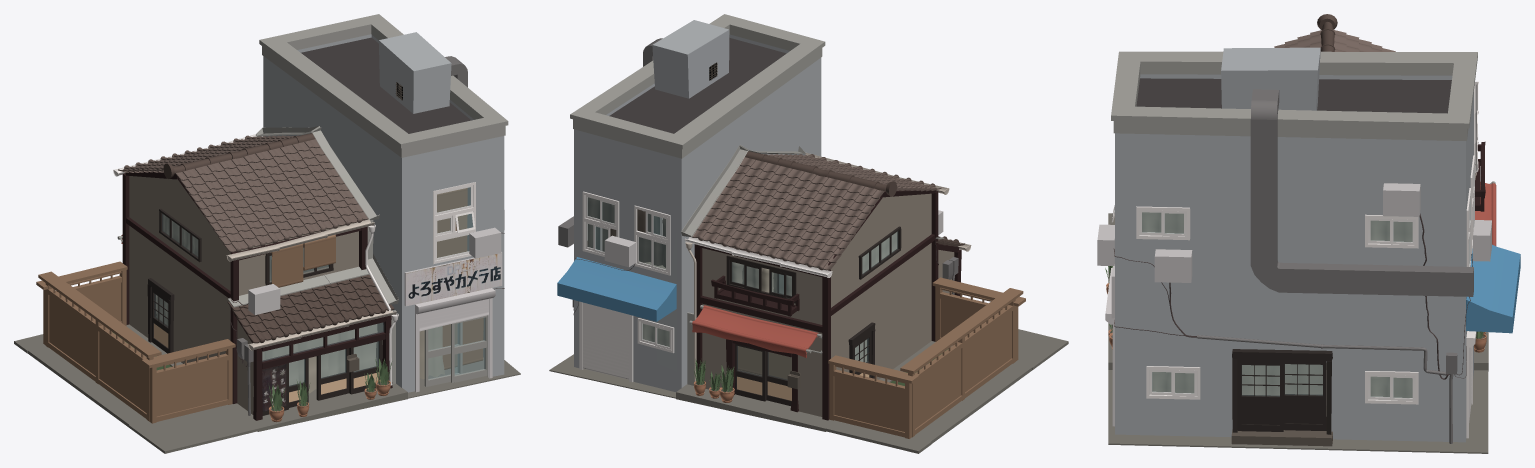
Rendered from Japanese_Building4.fbx.
The picture shows the model from 3 angles, left to right: view 1: azimuth 30°, elevation 25°; view 2: azimuth 150°, elevation 25°; view 3: azimuth 270°, elevation 25°; orthographic projection. The views are drawn at different scales.
Parts seen in each view (by area): view 1: polySurface761, polySurface231, polySurface113, polySurface774, polySurface306, polySurface517, pCube103, polySurface90, polySurface760, polySurface765, polySurface764, pCube72 (+37 smaller); view 2: polySurface761, polySurface113, polySurface231, polySurface774, polySurface306, polySurface517, pCube104, polySurface760, polySurface723, polySurface765, polySurface706, polySurface870 (+25 smaller); view 3: polySurface762, polySurface774, polySurface866, polySurface760, polySurface765, pCube75, polySurface723, polySurface871, polySurface770, polySurface772, polySurface817, polySurface818 (+22 smaller).
Boxes of the visible parts, bbox=[...] form: polySurface761: bbox=[263, 56, 504, 392]; polySurface231: bbox=[118, 135, 368, 252]; polySurface113: bbox=[129, 145, 383, 414]; polySurface774: bbox=[259, 14, 508, 157]; polySurface306: bbox=[38, 271, 161, 421]; polySurface517: bbox=[122, 172, 392, 420]; pCube103: bbox=[141, 339, 235, 423]; polySurface90: bbox=[227, 274, 394, 343]; polySurface760: bbox=[297, 34, 473, 133]; polySurface765: bbox=[379, 32, 451, 113]; polySurface764: bbox=[404, 252, 502, 306]; pCube72: bbox=[128, 405, 258, 453]; polySurface761: bbox=[574, 58, 821, 391]; polySurface113: bbox=[697, 165, 954, 416]; polySurface231: bbox=[692, 154, 941, 270]; polySurface774: bbox=[570, 14, 825, 158]; polySurface306: bbox=[900, 288, 1023, 437]; polySurface517: bbox=[694, 190, 961, 420]; pCube104: bbox=[828, 355, 919, 438]; polySurface760: bbox=[606, 34, 789, 133]; polySurface723: bbox=[557, 257, 676, 321]; polySurface765: bbox=[652, 20, 729, 98]; polySurface706: bbox=[689, 305, 822, 357]; polySurface870: bbox=[583, 302, 628, 379]; polySurface762: bbox=[1115, 133, 1465, 442]; polySurface774: bbox=[1111, 51, 1477, 140]; polySurface866: bbox=[1250, 89, 1473, 296]; polySurface760: bbox=[1136, 74, 1452, 113]; polySurface765: bbox=[1221, 47, 1320, 110]; pCube75: bbox=[1108, 370, 1488, 453]; polySurface723: bbox=[1466, 244, 1520, 333]; polySurface871: bbox=[1238, 359, 1283, 431]; polySurface770: bbox=[1242, 364, 1326, 415]; polySurface772: bbox=[1231, 429, 1332, 446]; polySurface817: bbox=[1154, 249, 1192, 282]; polySurface818: bbox=[1383, 183, 1420, 216].
Bounding box in the file's own units: 3421 × 2528 × 2680.
